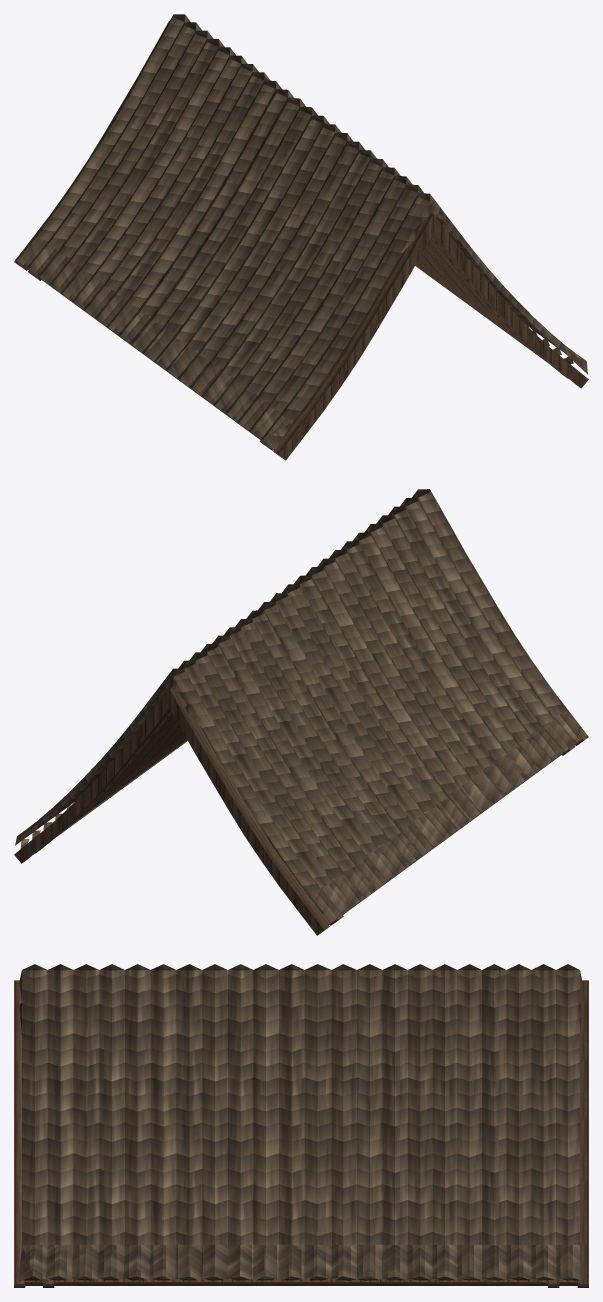
File: Roof_Shingle_6x10.gltf
The picture shows the model from 3 angles, top to bottom: view 1: azimuth 30°, elevation 25°; view 2: azimuth 150°, elevation 25°; view 3: azimuth 270°, elevation 25°; orthographic projection. The views are drawn at different scales.
Visible parts, largest first — view 1: Roof_Shingle_6x10; view 2: Roof_Shingle_6x10; view 3: Roof_Shingle_6x10.
Boxes of the visible parts, x1,y1,x2,y2 form: Roof_Shingle_6x10: [14, 14, 588, 460]; Roof_Shingle_6x10: [14, 489, 588, 935]; Roof_Shingle_6x10: [14, 964, 588, 1287].
Bounding box in the file's own units: 8.25 × 5.42 × 11.66.
Materials: 2 (2 with a texture image).
